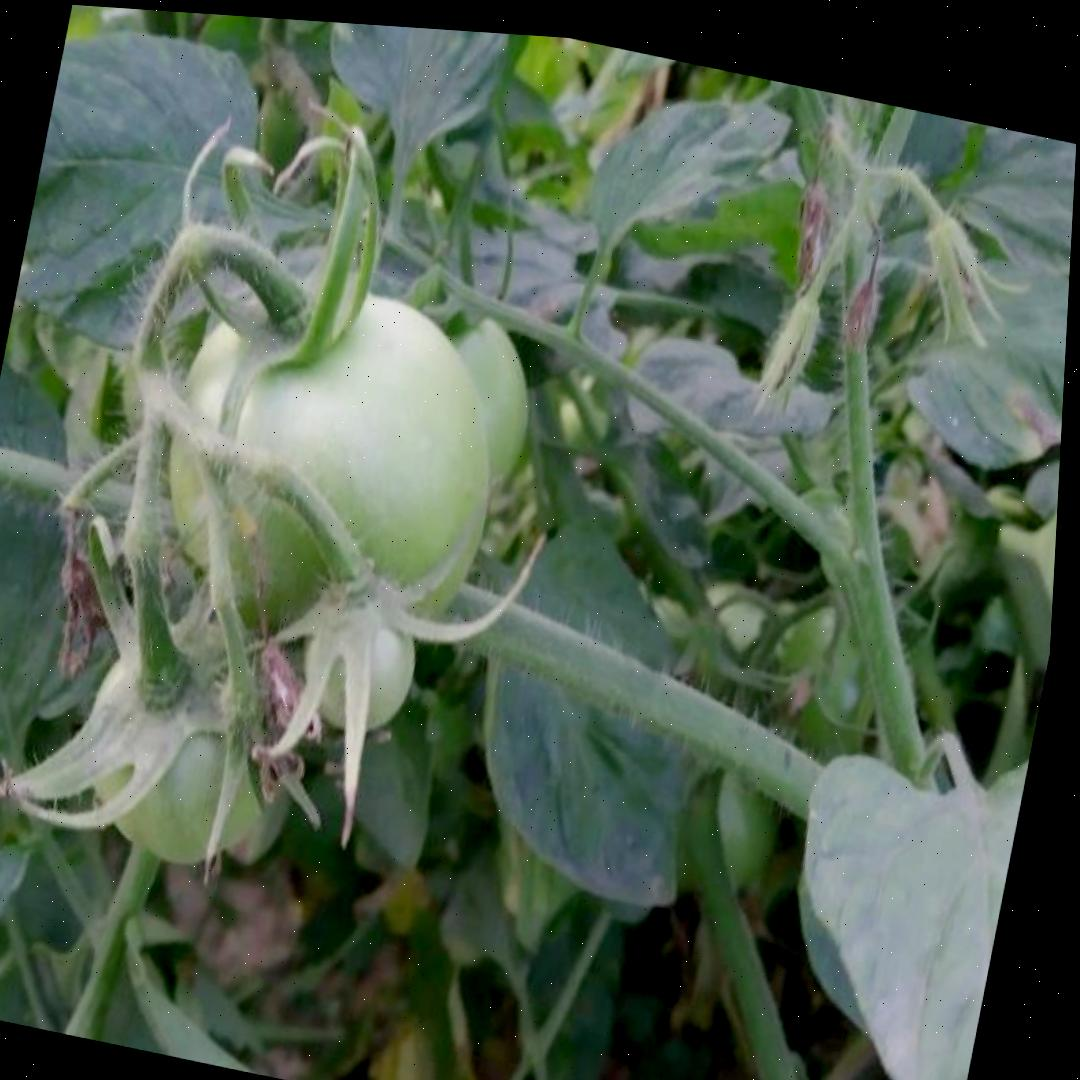mentah: (139, 255, 525, 701), (65, 599, 304, 876)
